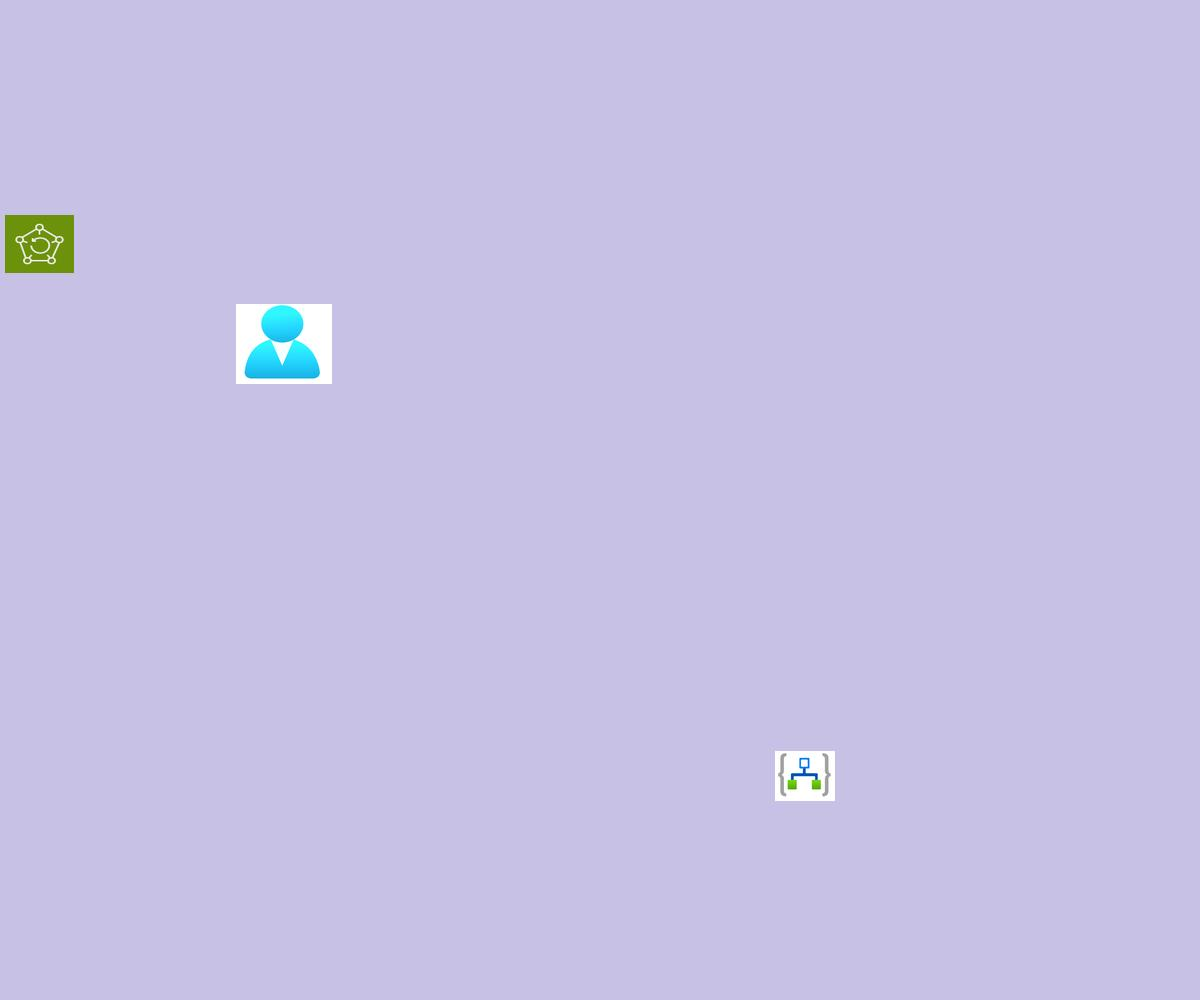AWS-Backup: (5, 215, 74, 273)
Azure_integration-204-Logic-Apps: (775, 751, 835, 801)
Azure_users: (236, 304, 332, 384)
